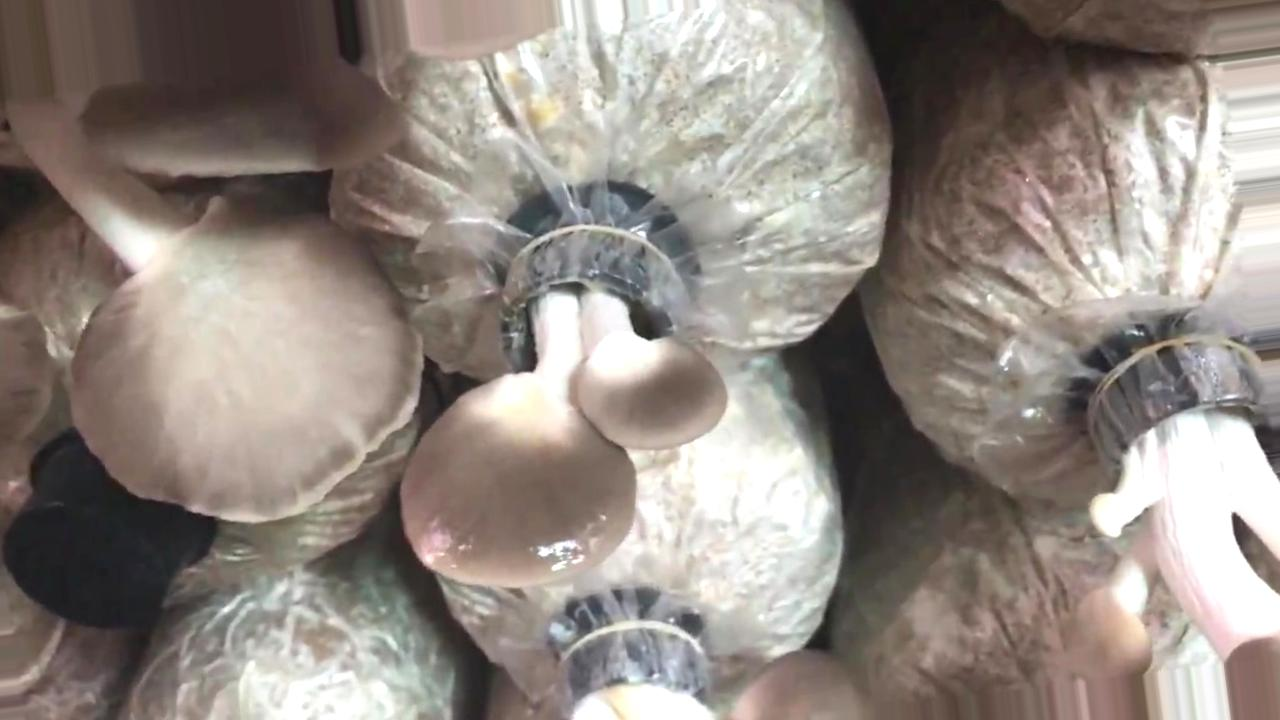nam: (2, 1, 425, 524), (398, 195, 734, 595), (1061, 332, 1280, 720)
